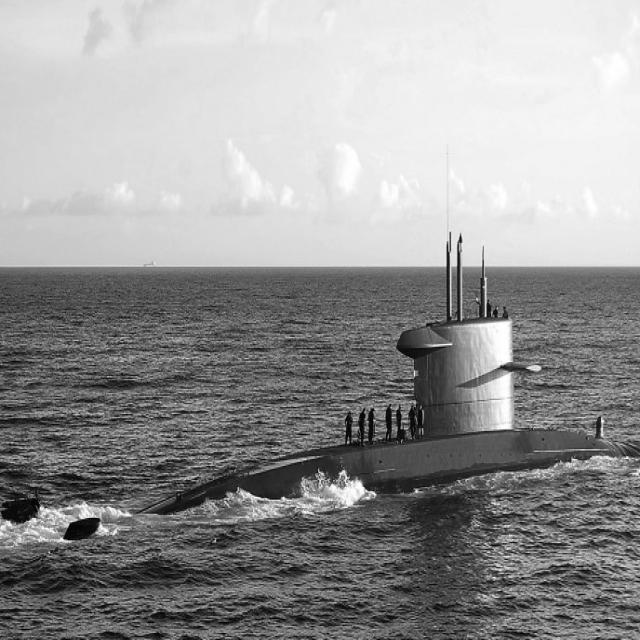submarine: (1, 233, 640, 542)
